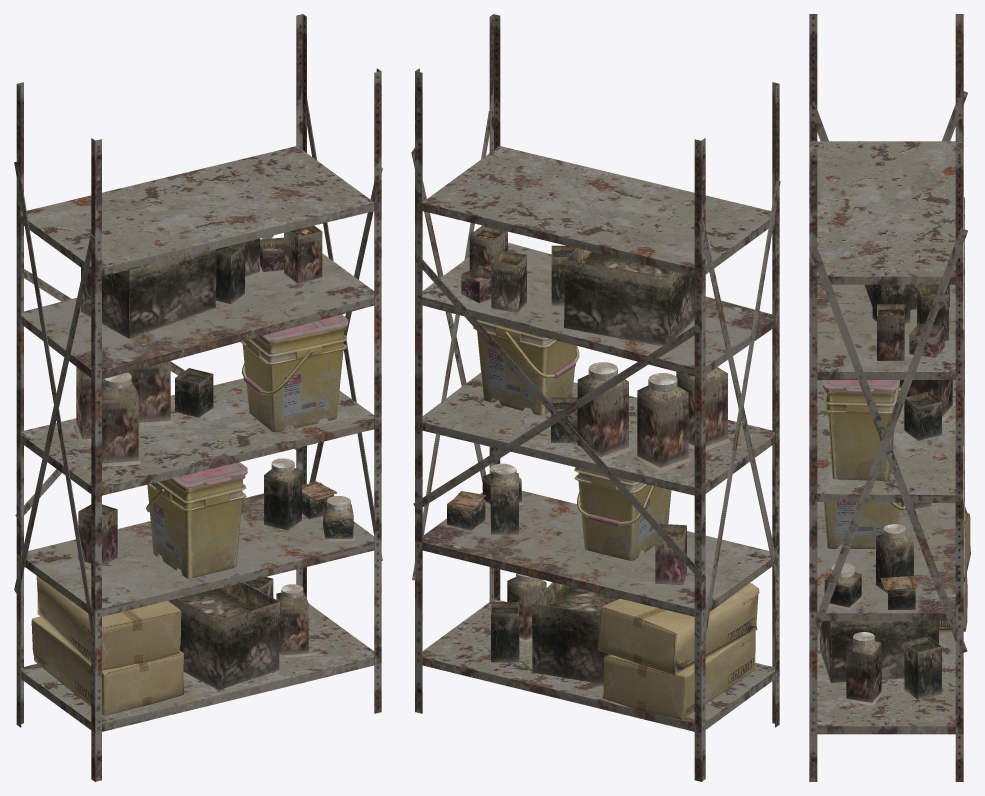
The model's file is sm39_059_ironshelfset03a.fbx.
3 views of the same model, side by side, from view 1: azimuth 30°, elevation 25°; view 2: azimuth 150°, elevation 25°; view 3: azimuth 270°, elevation 25° (orthographic).
Visible parts, largest first — view 1: LOD_1_Group_0_Sub_1__sm30_046_IronShelf02A_Mat, LOD_1_Group_0_Sub_2__sm32_063_CreepyVessel01A_A_Mat, LOD_1_Group_0_Sub_4__sm30_137_Pail01A_A_Mat, LOD_1_Group_0_Sub_3__sm36_004_Cardboard03A_A_Mat; view 2: LOD_1_Group_0_Sub_1__sm30_046_IronShelf02A_Mat, LOD_1_Group_0_Sub_2__sm32_063_CreepyVessel01A_A_Mat, LOD_1_Group_0_Sub_3__sm36_004_Cardboard03A_A_Mat, LOD_1_Group_0_Sub_4__sm30_137_Pail01A_A_Mat; view 3: LOD_1_Group_0_Sub_1__sm30_046_IronShelf02A_Mat, LOD_1_Group_0_Sub_2__sm32_063_CreepyVessel01A_A_Mat, LOD_1_Group_0_Sub_4__sm30_137_Pail01A_A_Mat, LOD_1_Group_0_Sub_3__sm36_004_Cardboard03A_A_Mat.
Part boxes in pixels (x1,y1,x2,y2): LOD_1_Group_0_Sub_1__sm30_046_IronShelf02A_Mat: [14, 14, 382, 781]; LOD_1_Group_0_Sub_2__sm32_063_CreepyVessel01A_A_Mat: [73, 225, 354, 690]; LOD_1_Group_0_Sub_4__sm30_137_Pail01A_A_Mat: [146, 314, 348, 578]; LOD_1_Group_0_Sub_3__sm36_004_Cardboard03A_A_Mat: [31, 576, 183, 715]; LOD_1_Group_0_Sub_1__sm30_046_IronShelf02A_Mat: [411, 14, 780, 781]; LOD_1_Group_0_Sub_2__sm32_063_CreepyVessel01A_A_Mat: [447, 225, 730, 684]; LOD_1_Group_0_Sub_3__sm36_004_Cardboard03A_A_Mat: [598, 583, 759, 719]; LOD_1_Group_0_Sub_4__sm30_137_Pail01A_A_Mat: [473, 319, 671, 560]; LOD_1_Group_0_Sub_1__sm30_046_IronShelf02A_Mat: [809, 14, 967, 781]; LOD_1_Group_0_Sub_2__sm32_063_CreepyVessel01A_A_Mat: [820, 284, 955, 705]; LOD_1_Group_0_Sub_4__sm30_137_Pail01A_A_Mat: [823, 380, 905, 548]; LOD_1_Group_0_Sub_3__sm36_004_Cardboard03A_A_Mat: [939, 512, 970, 632].
Bounding box in the file's own units: 1.21 × 2.57 × 0.5993.
